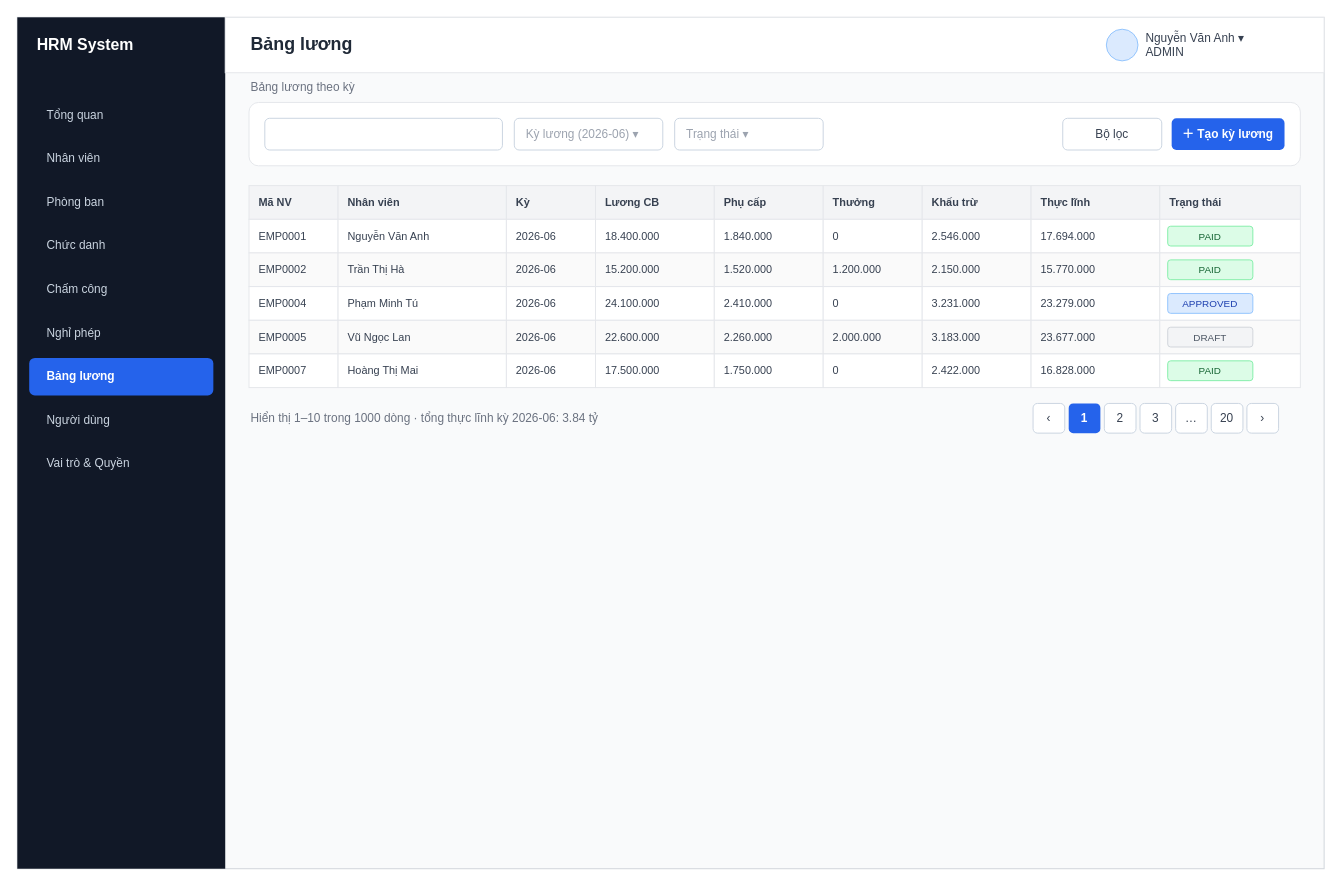
The diagram is 1341 pixels wide and 886 high, and some of its shapes have lost their labels. The centre of each missing label's shape, as x and y in pixels:
NA: point (1121, 44)
🔎 Tìm kiếm (keyword)…: point (383, 133)
